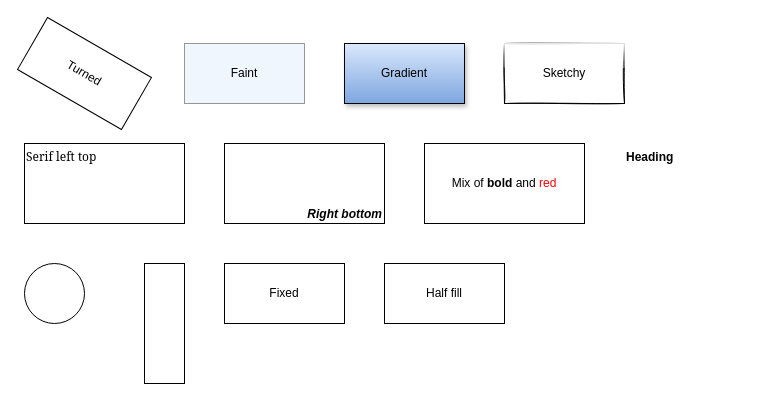
Image size: 762x402. Some labels were removed from this diagram. Each missing label, with the centre of its shape:
"Below" belongs at [54,293].
"Up" belongs at [164,323].
